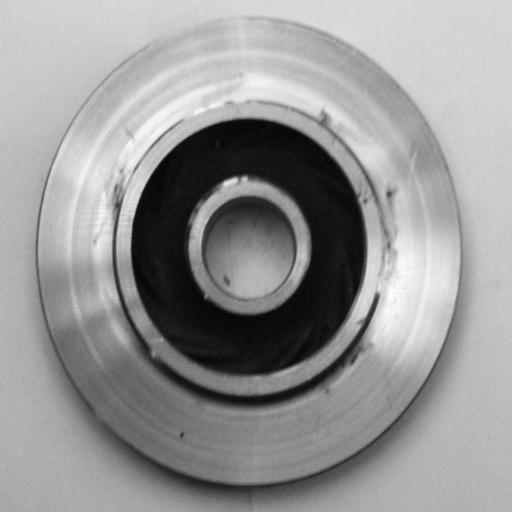crack: (325, 314, 376, 393), (377, 185, 404, 310)
scratch: (180, 90, 262, 122)
stain: (98, 155, 137, 242)
unpolished_casting: (33, 16, 464, 493)
